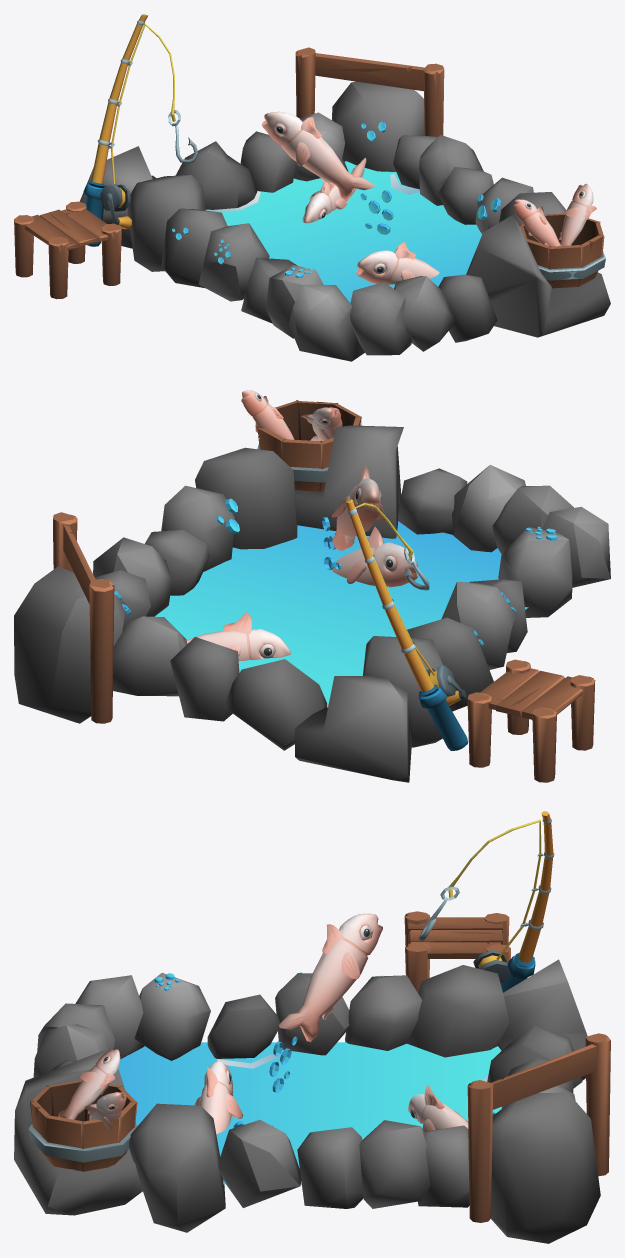
Rendered from pondscene.glb.
3 views of the same model, one above another, from view 1: azimuth 30°, elevation 25°; view 2: azimuth 150°, elevation 25°; view 3: azimuth 270°, elevation 25° (orthographic). The views are drawn at different scales.
Visible parts, largest first — view 1: rocks.008, pondscene, benchlittle.002, Cylinder.021, Cylinder.020, Cube.075, fencemiddle.002, Cube.073, fence .004, fence .003, Cube.076, Cube.074 (+1 smaller); view 2: rocks.008, pondscene, benchlittle.002, Cylinder.021, Cylinder.020, fence .003, Cube.073, Cube.074, Cube.075, Cube.076, fencemiddle.002, fence .004 (+1 smaller); view 3: rocks.008, pondscene, Cylinder.020, Cube.075, benchlittle.002, Cylinder.021, fence .004, fencemiddle.002, fence .003, Cube.073, Cube.077, Cube.074 (+1 smaller).
Part boxes in pixels (x1,y1,x2,y2): rocks.008: [79, 81, 610, 361]; pondscene: [217, 161, 482, 302]; benchlittle.002: [14, 201, 121, 299]; Cylinder.021: [83, 14, 180, 246]; Cylinder.020: [519, 213, 605, 288]; Cube.075: [261, 111, 374, 200]; fencemiddle.002: [315, 53, 424, 91]; Cube.073: [356, 241, 439, 284]; fence .004: [423, 63, 444, 136]; fence .003: [295, 47, 315, 117]; Cube.076: [559, 183, 596, 245]; Cube.074: [302, 158, 366, 223]; rocks.008: [14, 425, 610, 782]; pondscene: [155, 521, 528, 703]; benchlittle.002: [467, 659, 595, 782]; Cylinder.021: [346, 499, 467, 750]; Cylinder.020: [257, 400, 361, 491]; fence .003: [89, 579, 114, 723]; Cube.073: [331, 526, 417, 587]; Cube.074: [186, 612, 290, 660]; Cube.075: [331, 464, 385, 550]; Cube.076: [241, 390, 294, 439]; fencemiddle.002: [63, 525, 95, 603]; fence .004: [53, 512, 77, 572]; rocks.008: [14, 959, 600, 1243]; pondscene: [118, 1042, 501, 1184]; Cylinder.020: [28, 1080, 137, 1171]; Cube.075: [278, 913, 382, 1042]; benchlittle.002: [404, 911, 510, 992]; Cylinder.021: [440, 811, 554, 992]; fence .004: [467, 1080, 493, 1222]; fencemiddle.002: [491, 1044, 596, 1109]; fence .003: [585, 1033, 610, 1176]; Cube.073: [194, 1061, 243, 1134]; Cube.077: [58, 1049, 120, 1119]; Cube.074: [408, 1084, 468, 1131].
Size of the model in its own units: 4.03 by 2.12 by 4.05.
1 material, 1 textured.
